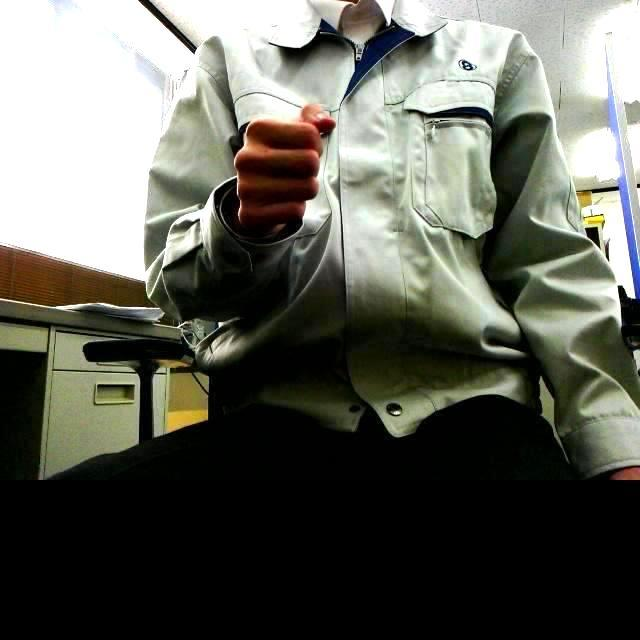gu-: (233, 102, 337, 227)
